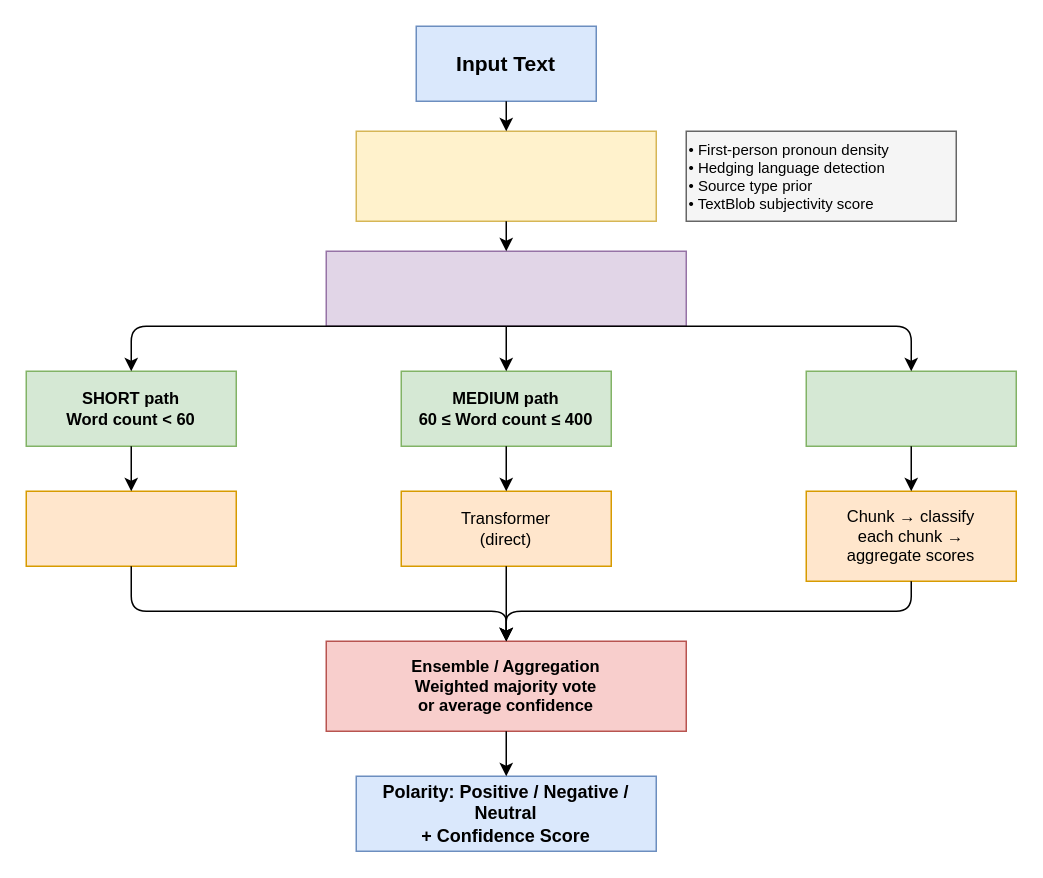
This 1043x878 diagram has some shape labels left out. The box of each missing label's shape, as (x1, y1, x2, y2) in pixels:
LONG path Word count > 400: (805, 370, 1016, 446)
Stage 1: Subjectivity Rule-Based: (355, 130, 656, 221)
Stage 2: Length-Aware Routing: (325, 250, 686, 326)
VADER + rules SenticNet concepts: (25, 490, 236, 566)
